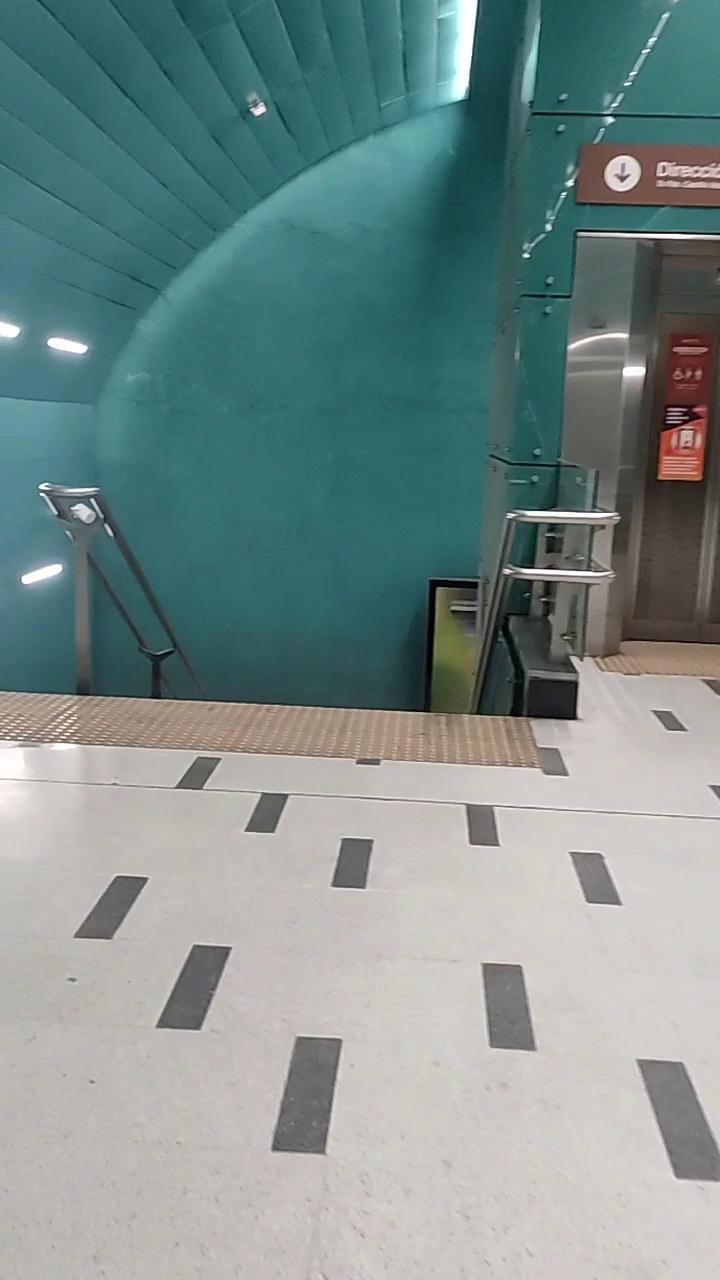down arrow: (602, 155, 642, 191)
